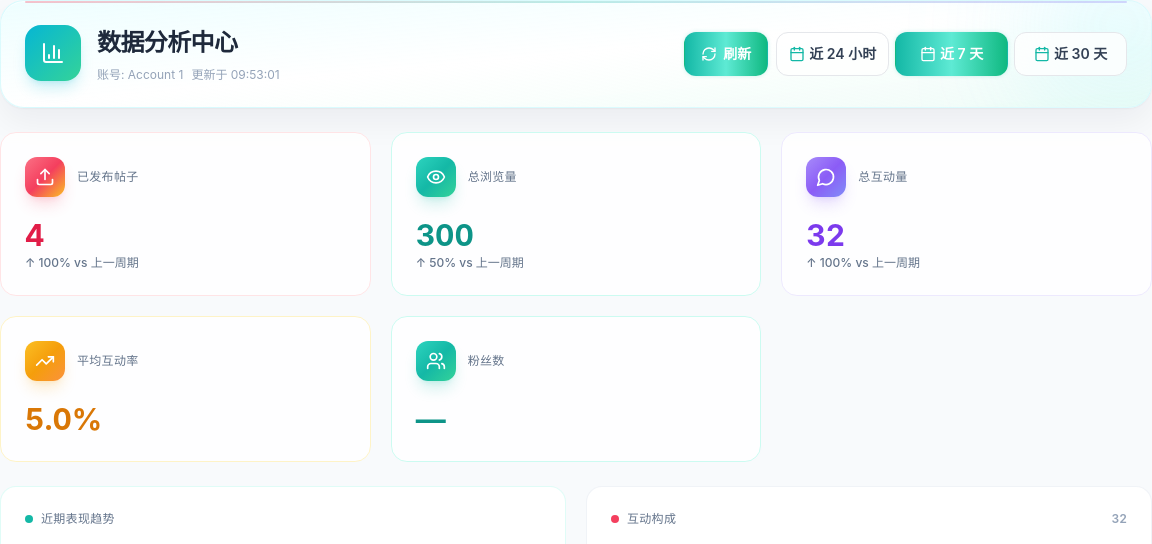
Test: Analytics view › keeps cached rows visible and surfaces a stale-data retry notice
What coordinates should you click on to do the following:
click the button "近 30 天"
I would click on:
 (1071, 54)
Its box is [1014,32,1127,76].
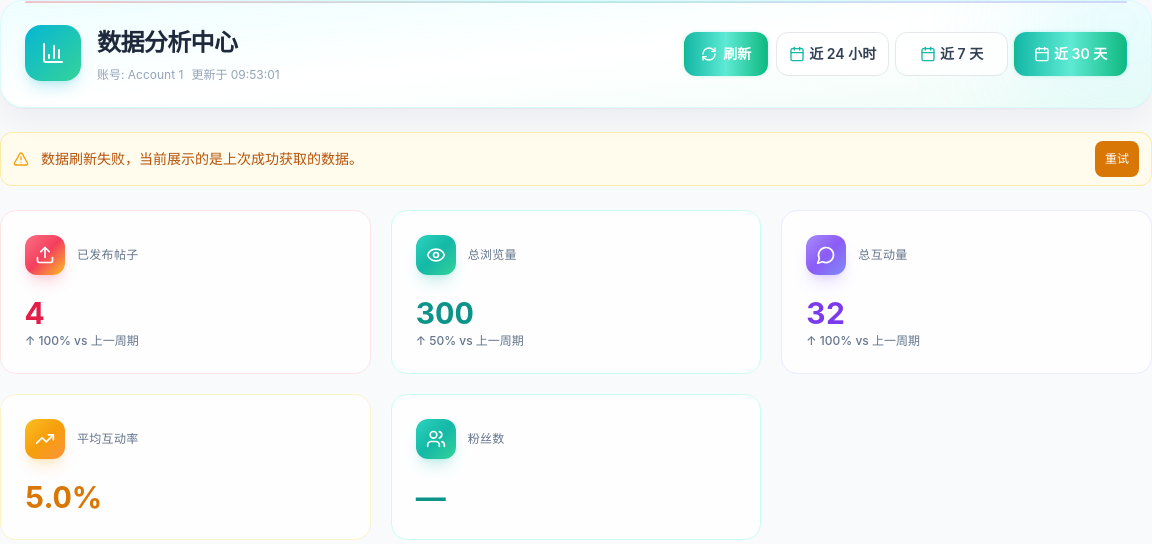
Result: the text "数据刷新失败，当前展示的是上次成功获取的数据。" is shown at [41,150,363,167]
